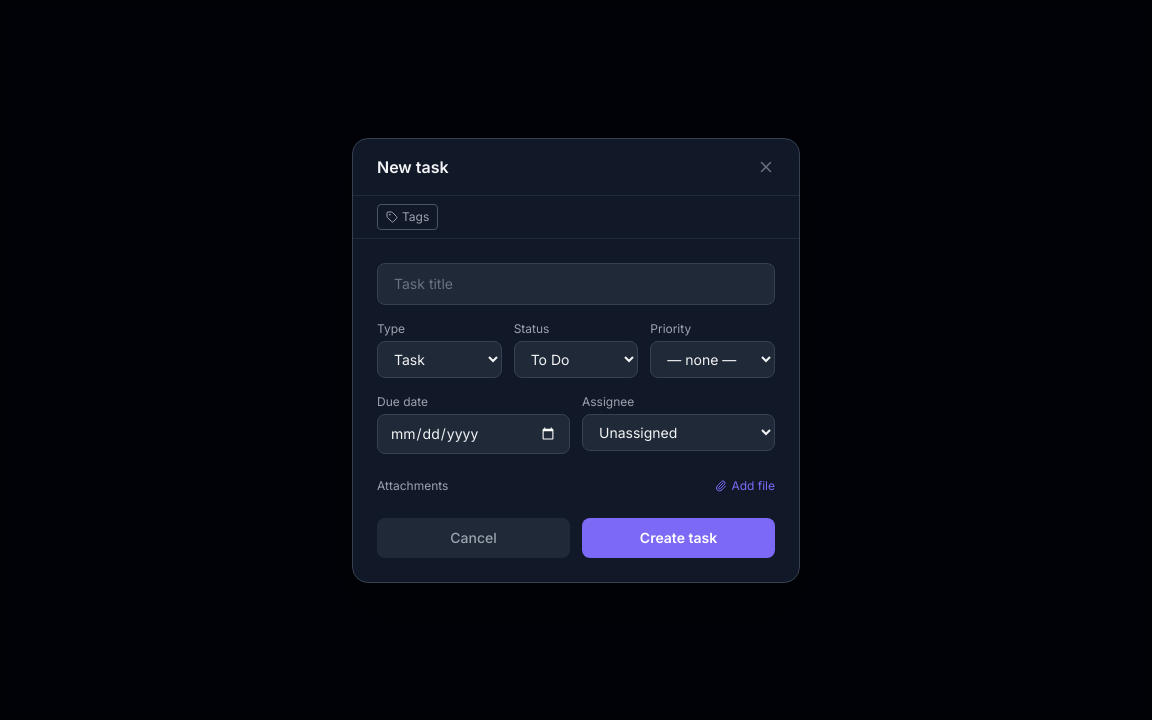
REQ-SEV01 — severity picker visible only for Bug › [REQ-SEV01] severity picker appears after switching to bug
The width and height of the screenshot is (1152, 720).
Select "Bug" in the dropdown named "issue type": (439, 359) x1=377 y1=340 x2=502 y2=378
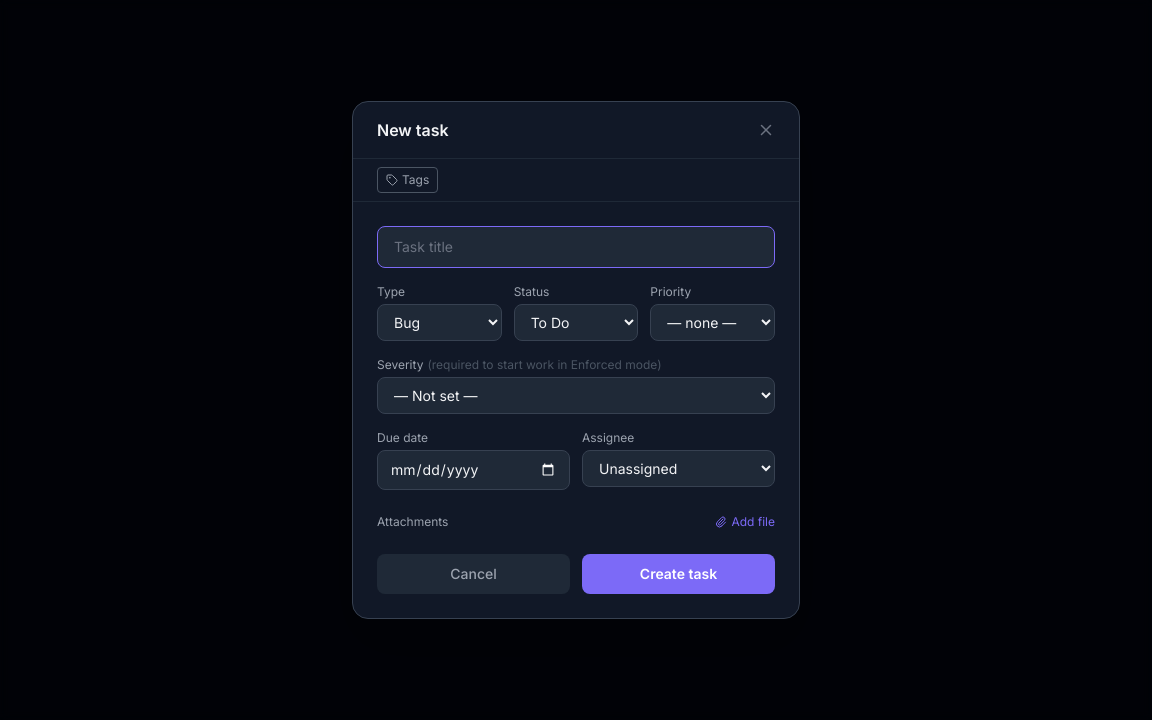
expect the dropdown named "severity" is shown: met, box x1=377 y1=377 x2=775 y2=414
